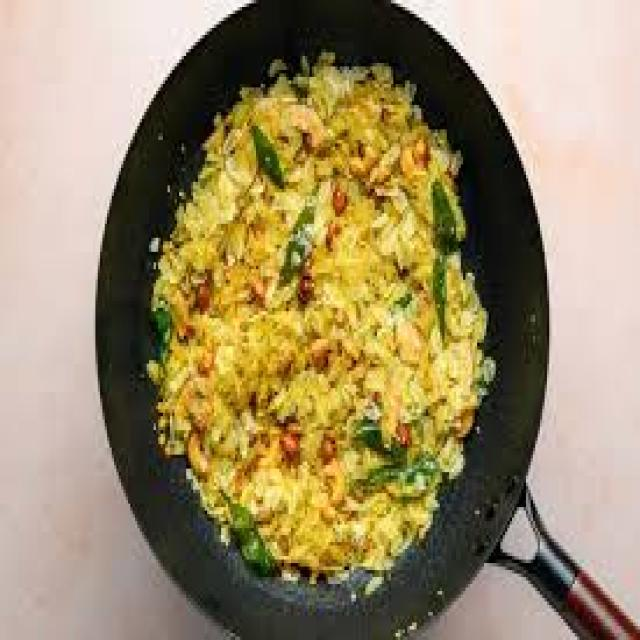POHA: (143, 47, 492, 581)
